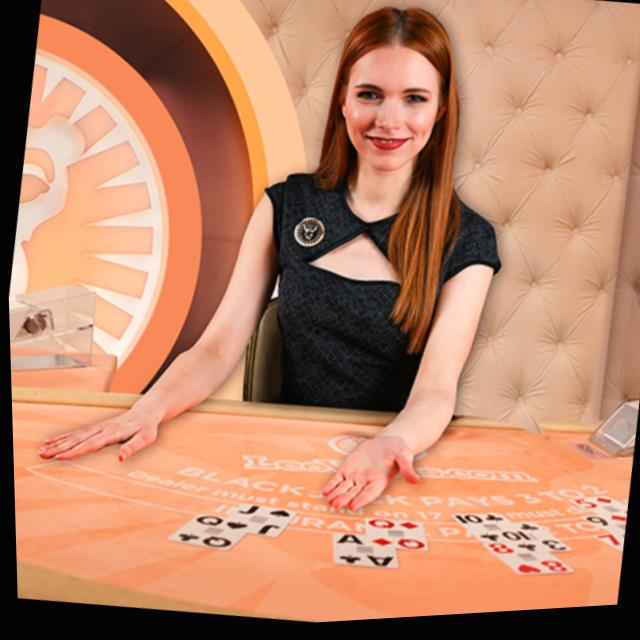Card-10: (451, 519, 521, 548)
Card-3: (508, 527, 564, 556)
Card-5: (566, 501, 624, 533)
Card-7: (591, 541, 619, 560)
Card-8: (485, 547, 568, 578)
Card-9: (576, 522, 622, 546)
Card-A: (329, 536, 393, 572)
Card-J: (220, 503, 293, 542)
Card-Q: (166, 515, 242, 551), (362, 522, 424, 554)
